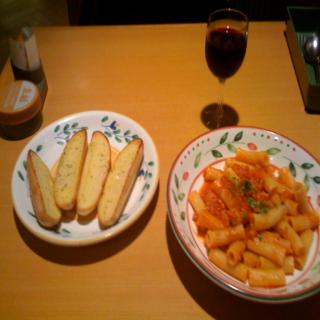Pasta: (186, 147, 320, 288)
